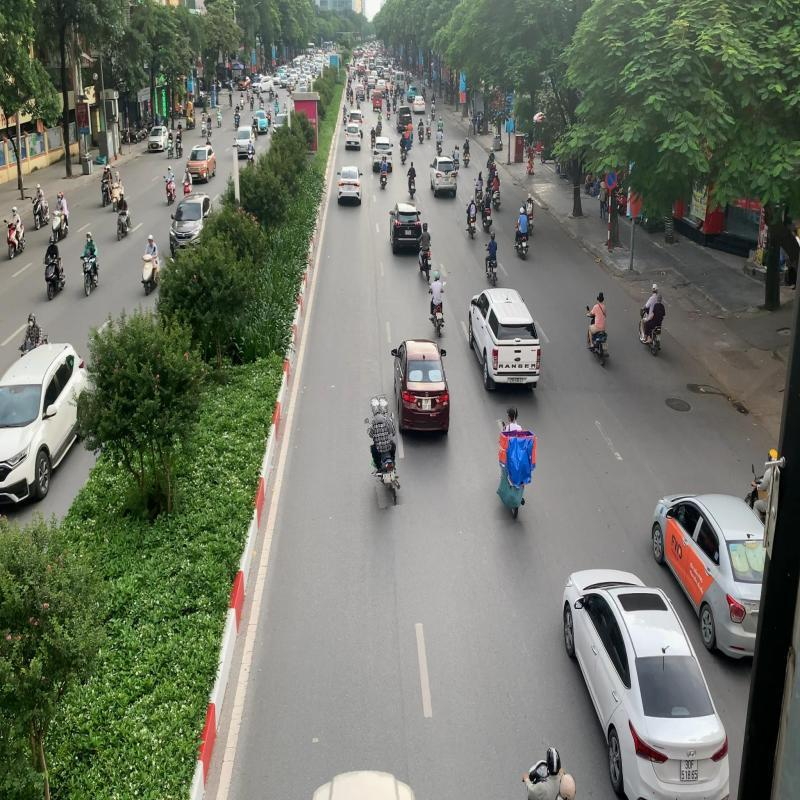helmet: (379, 395, 390, 414), (434, 270, 440, 280)
licenseplate: (383, 472, 392, 484), (436, 312, 441, 318)
motorcyclist: (496, 405, 538, 521), (365, 395, 401, 508), (639, 283, 666, 357), (586, 291, 610, 367), (428, 269, 447, 338)
nohelmet: (506, 406, 516, 423), (652, 283, 659, 293), (598, 292, 604, 303), (658, 293, 664, 303)
